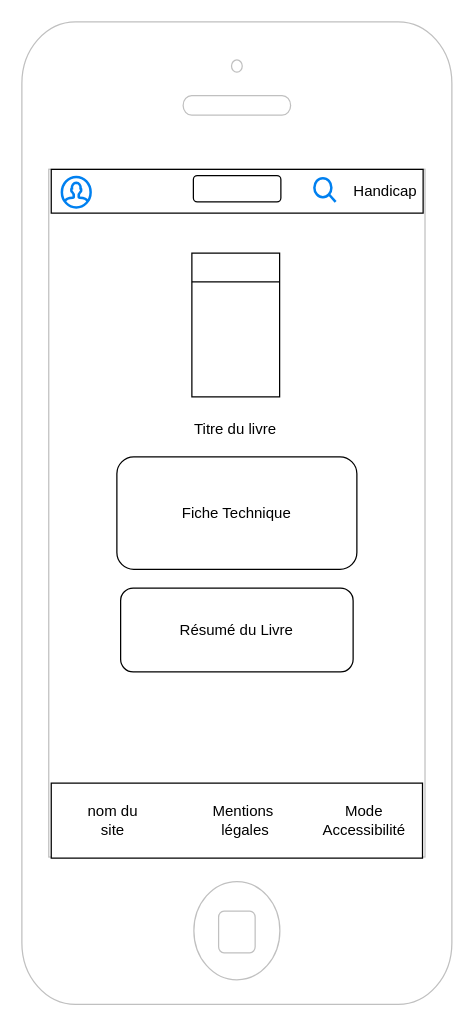
This 474x1026 diagram has some shape labels left out. The centre of each missing label's shape, as x and y in pixels:
Livre 1: [235,324]
Logo: [236,188]
